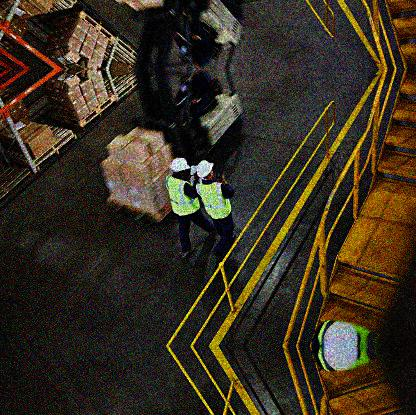helmet: (197, 160, 218, 183), (170, 157, 188, 180)
